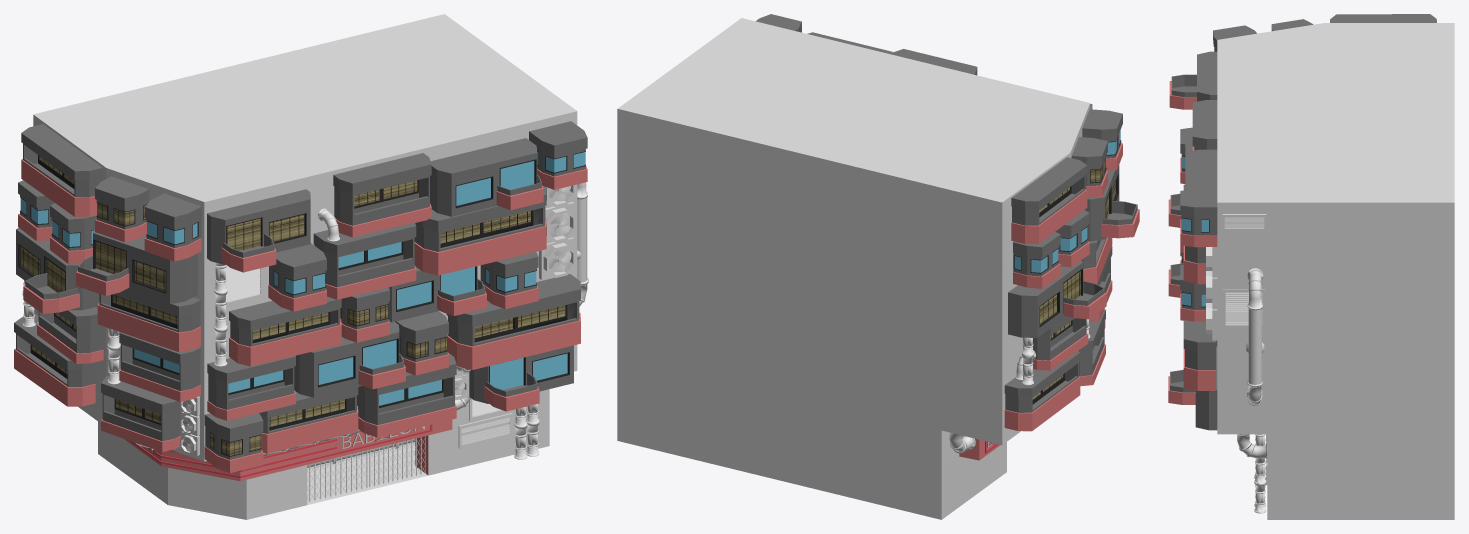
File: Bloc_Babylon.fbx
3 views of the same model, side by side, from view 1: azimuth 30°, elevation 25°; view 2: azimuth 150°, elevation 25°; view 3: azimuth 270°, elevation 25° (orthographic). The views are drawn at different scales.
Visible parts, largest first — view 1: Bloc_Babylon; view 2: Bloc_Babylon; view 3: Bloc_Babylon.
Part boxes in pixels (x1,y1,x2,y2): Bloc_Babylon: [14, 14, 588, 519]; Bloc_Babylon: [617, 14, 1139, 519]; Bloc_Babylon: [1168, 14, 1454, 519].
Bounding box in the file's own units: 1375 × 1687 × 2447.
